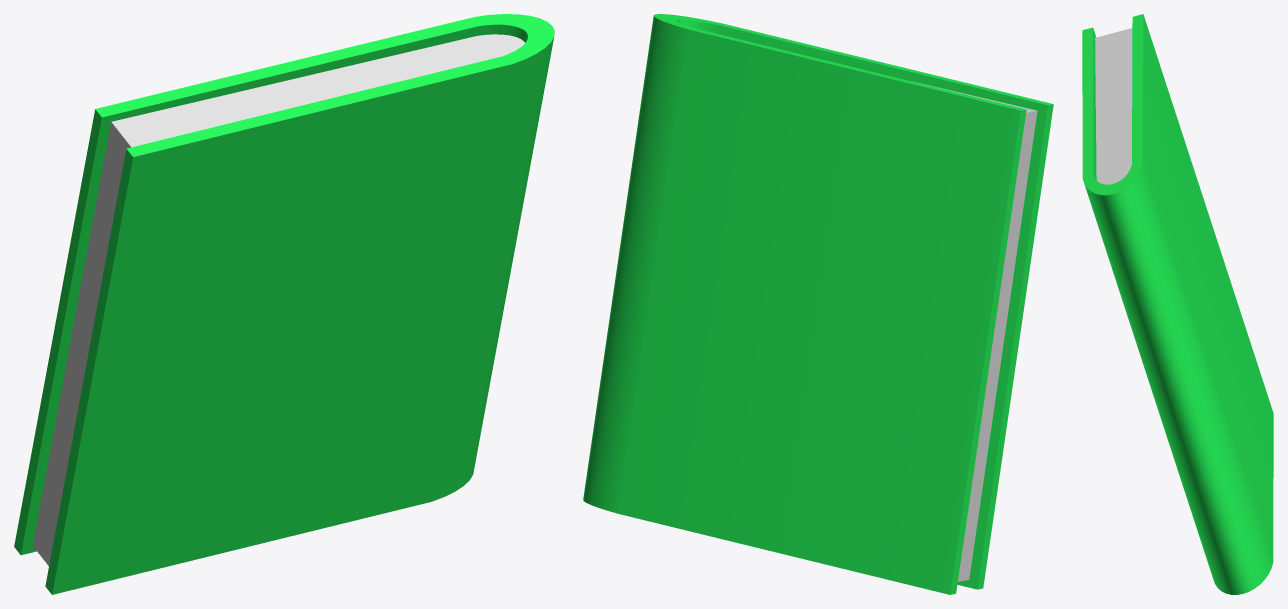
Rendered from Libro.004.glb.
The picture shows the model from 3 angles, left to right: view 1: azimuth 30°, elevation 25°; view 2: azimuth 150°, elevation 25°; view 3: azimuth 270°, elevation 25°; orthographic projection. The views are drawn at different scales.
Parts seen in each view (by area): view 1: Caballete_Libro.004; view 2: Caballete_Libro.004; view 3: Caballete_Libro.004.
Part boxes in pixels (box(x1,y1,x2,y2)): Caballete_Libro.004: box(14, 14, 554, 594); Caballete_Libro.004: box(583, 14, 1053, 594); Caballete_Libro.004: box(1082, 14, 1273, 594).
Bounding box in the file's own units: 0.2625 × 0.2961 × 0.1235.
